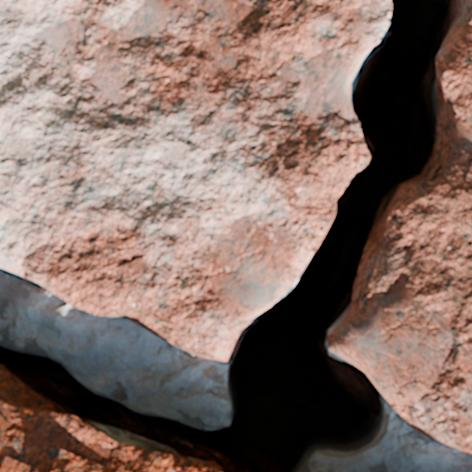brick: (0, 368, 223, 471)
broken_brick: (0, 0, 390, 363), (329, 0, 471, 456)
crack: (0, 0, 469, 471)
